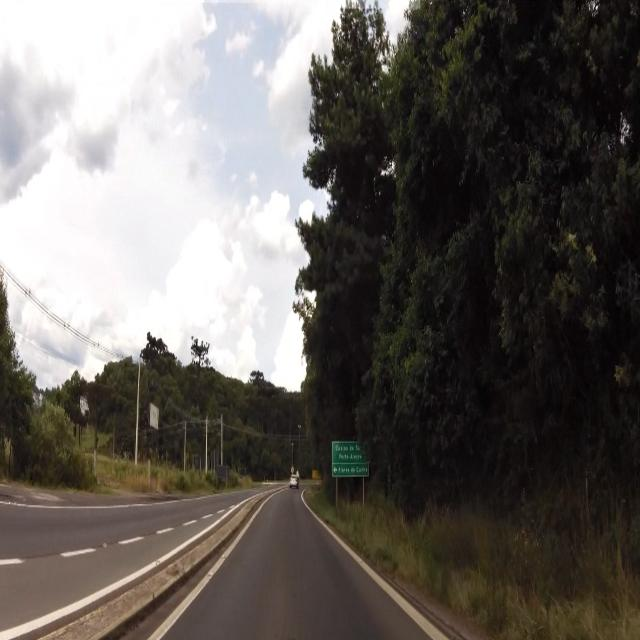I-4: (330, 441, 373, 477)
